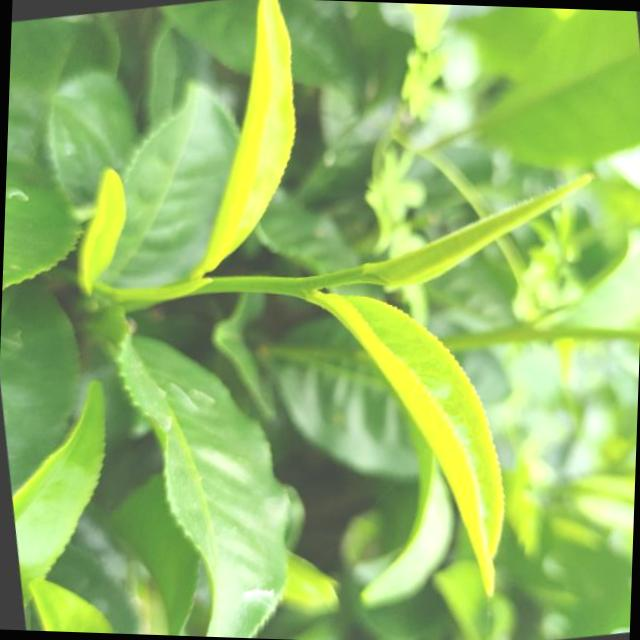Stem: (290, 278, 312, 296)
